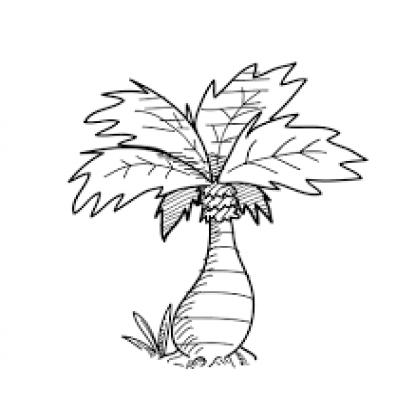crown_dizzy: (70, 54, 368, 238)
trunk_bark: (163, 259, 263, 303)
